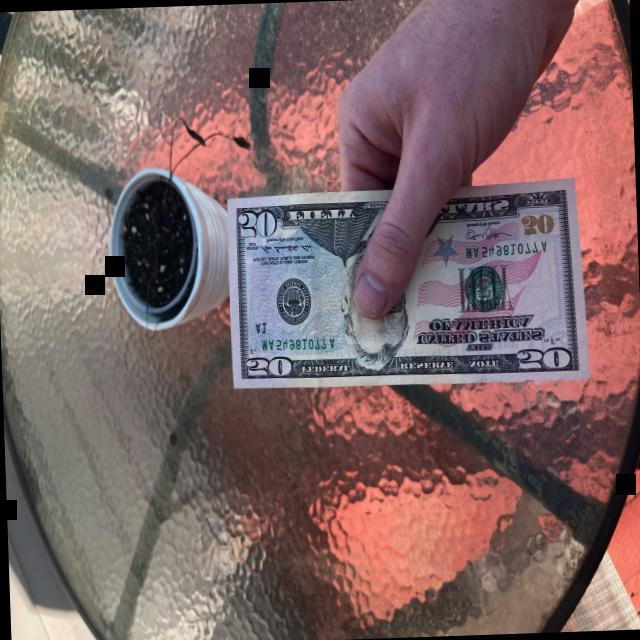fifty: (227, 184, 586, 390)
